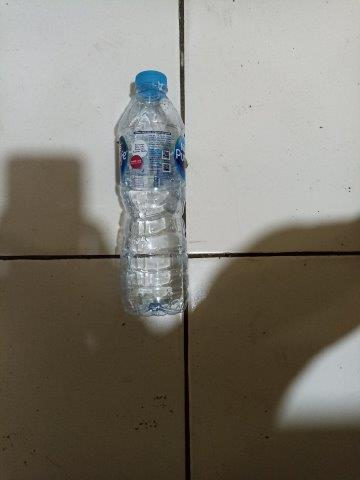botolplastik: (117, 70, 186, 314)
